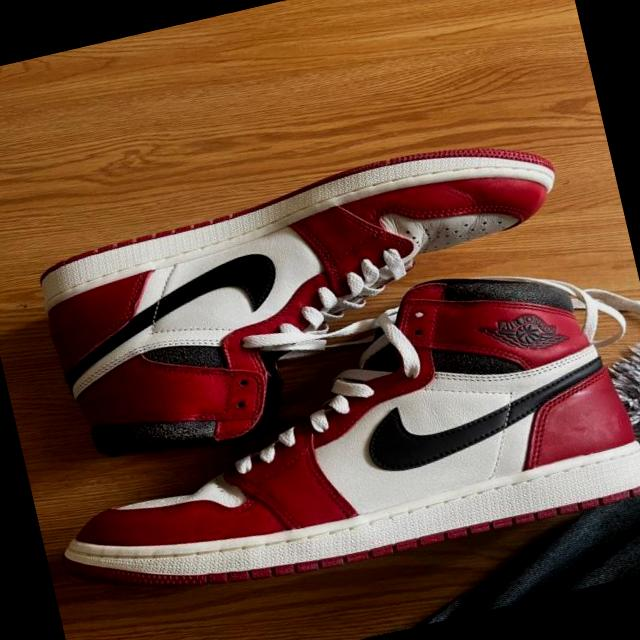nike_original_jordan: (18, 242, 640, 629), (24, 117, 602, 477)
